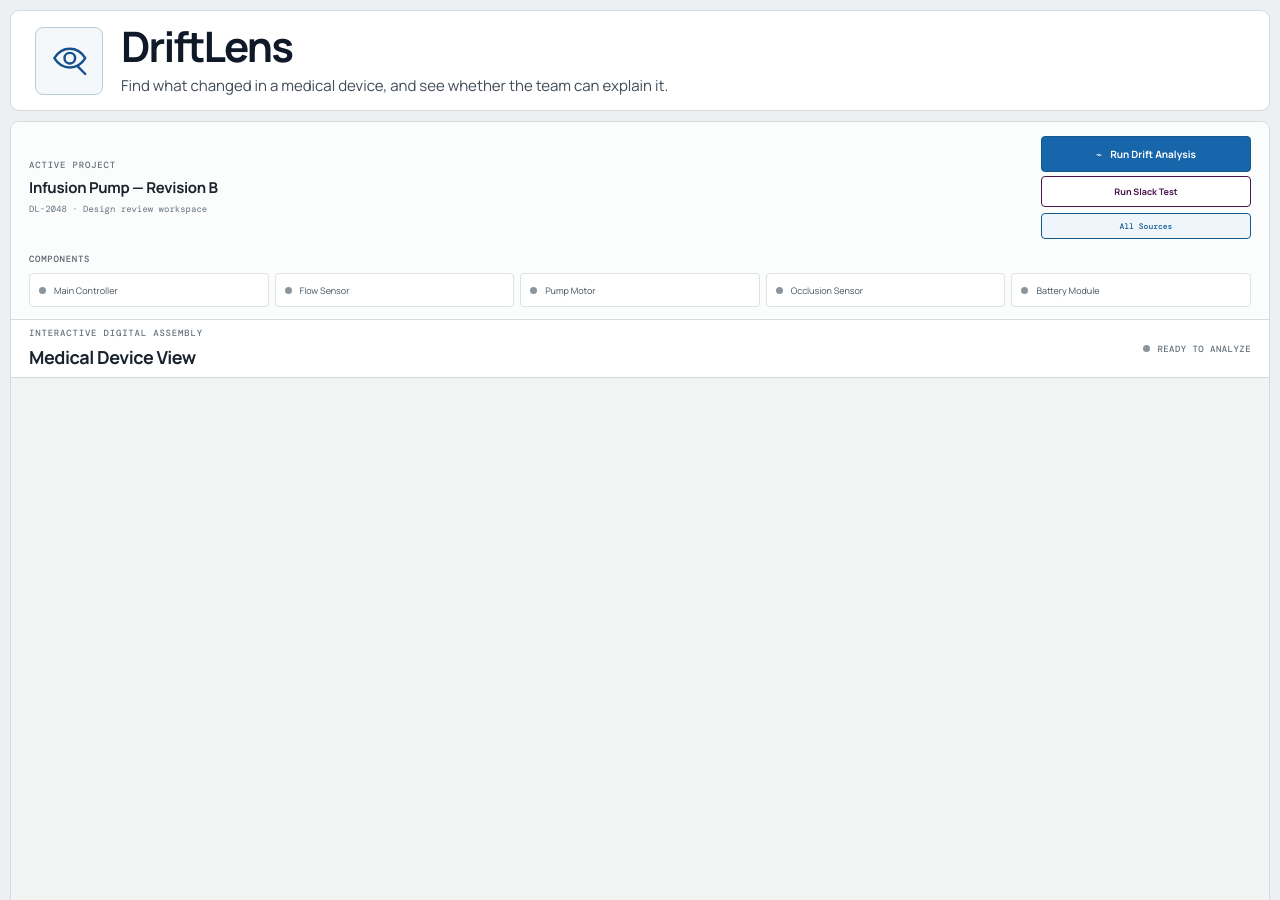
Scenario: ReviewWorkspace › renders live red/yellow results with complete source evidence
Click the button "⌁ Run Drift Analysis".
click(1146, 154)  # box [1041,136,1251,172]
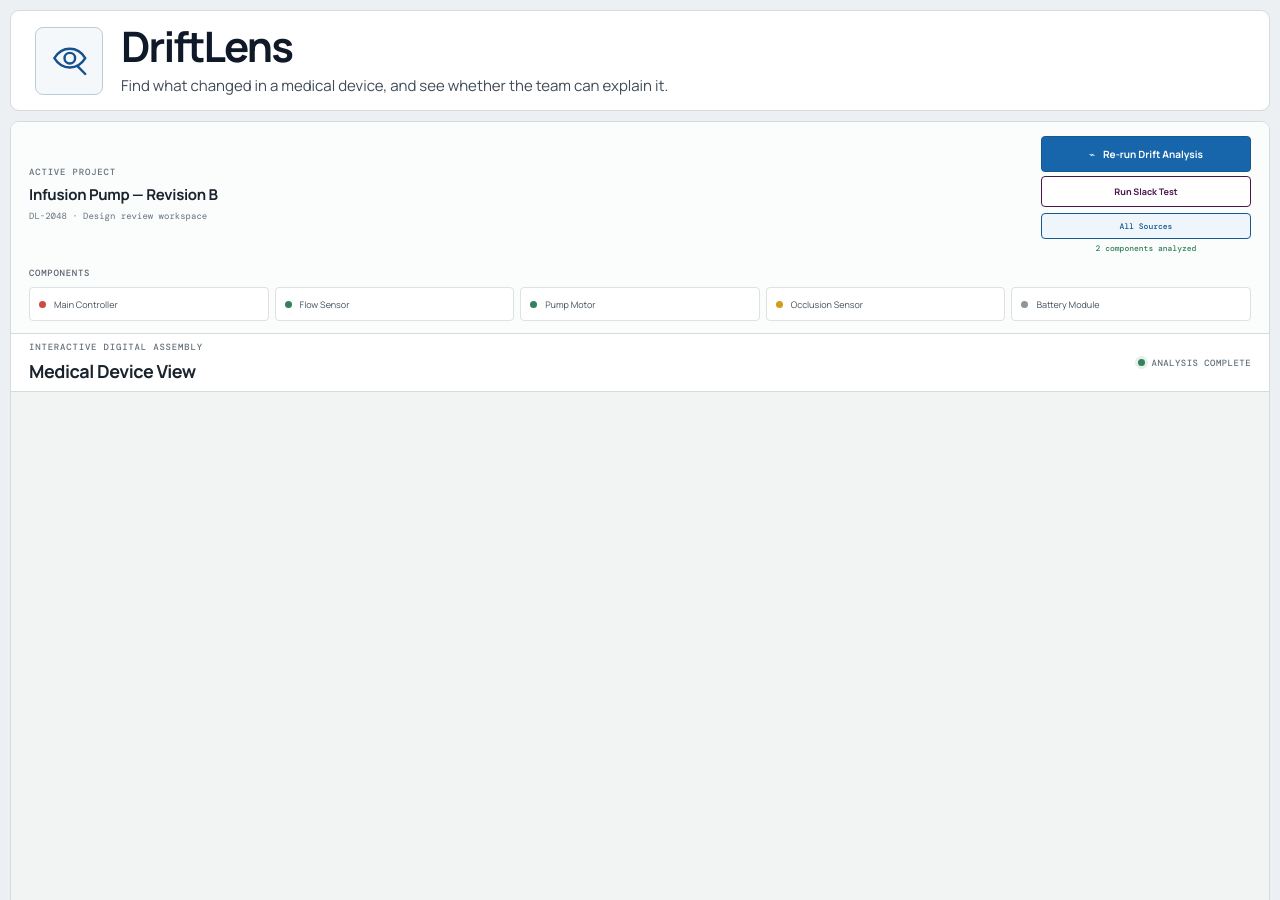
Now the text "2 components analyzed" is shown, box [1096,243,1196,253]
Click the button "Main Controller".
click(149, 304)  # box [29,287,269,321]
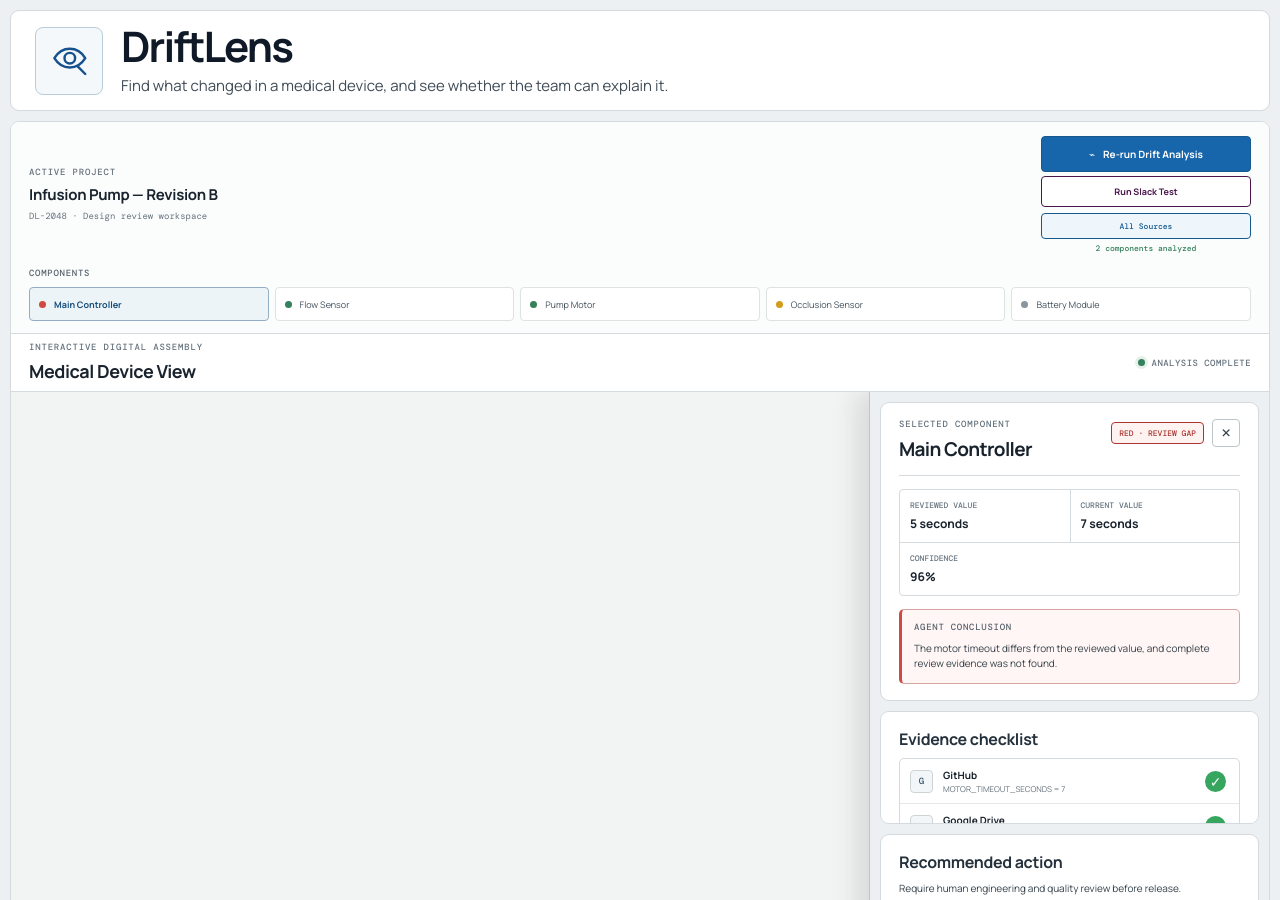
Now the text "5 seconds" is shown, box [910,515,969,532]
Now the text "7 seconds" is shown, box [1080,515,1138,532]
Now the text "96%" is shown, box [910,568,936,585]
